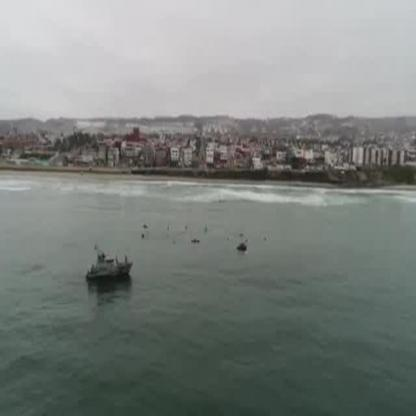Boat: (85, 242, 132, 289)
